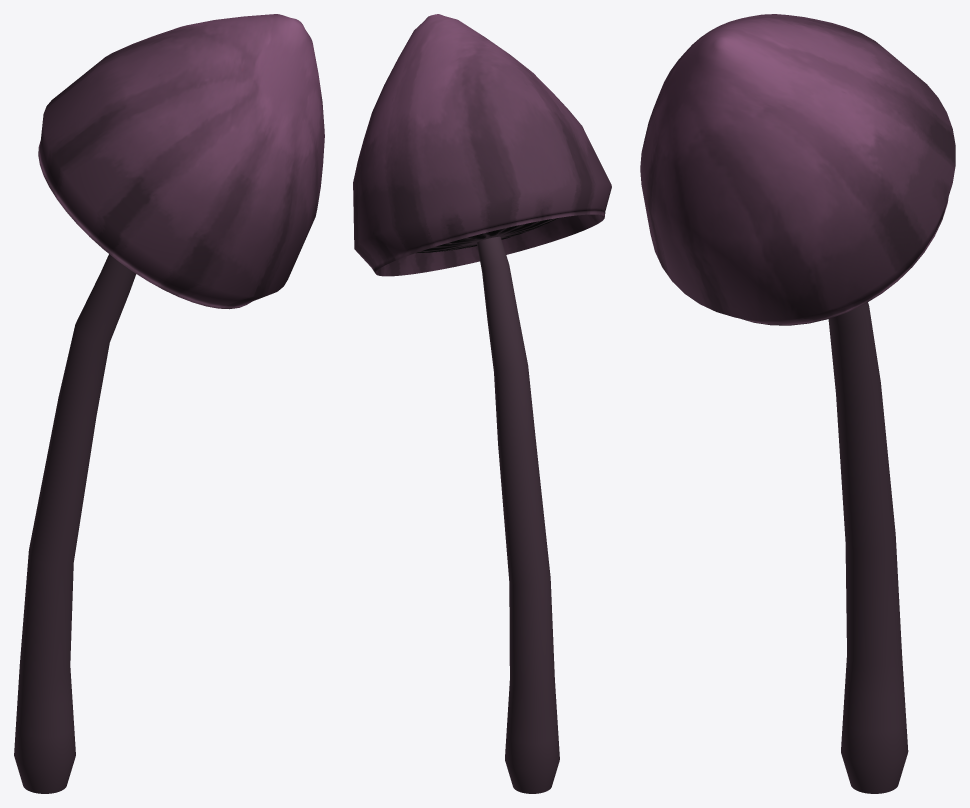
File: Lank Mushroom 1.fbx
3 views of the same model, side by side, from view 1: azimuth 30°, elevation 25°; view 2: azimuth 150°, elevation 25°; view 3: azimuth 270°, elevation 25° (orthographic). The views are drawn at different scales.
Parts seen in each view (by area): view 1: pasted__pasted__pCylinder1; view 2: pasted__pasted__pCylinder1; view 3: pasted__pasted__pCylinder1.
Part boxes in pixels (<box>): pasted__pasted__pCylinder1: <box>14,14,324,793</box>; pasted__pasted__pCylinder1: <box>353,14,611,793</box>; pasted__pasted__pCylinder1: <box>640,14,955,793</box>.
Size of the model in its own units: 1.46 by 4.38 by 1.49.
1 material, 1 textured.
